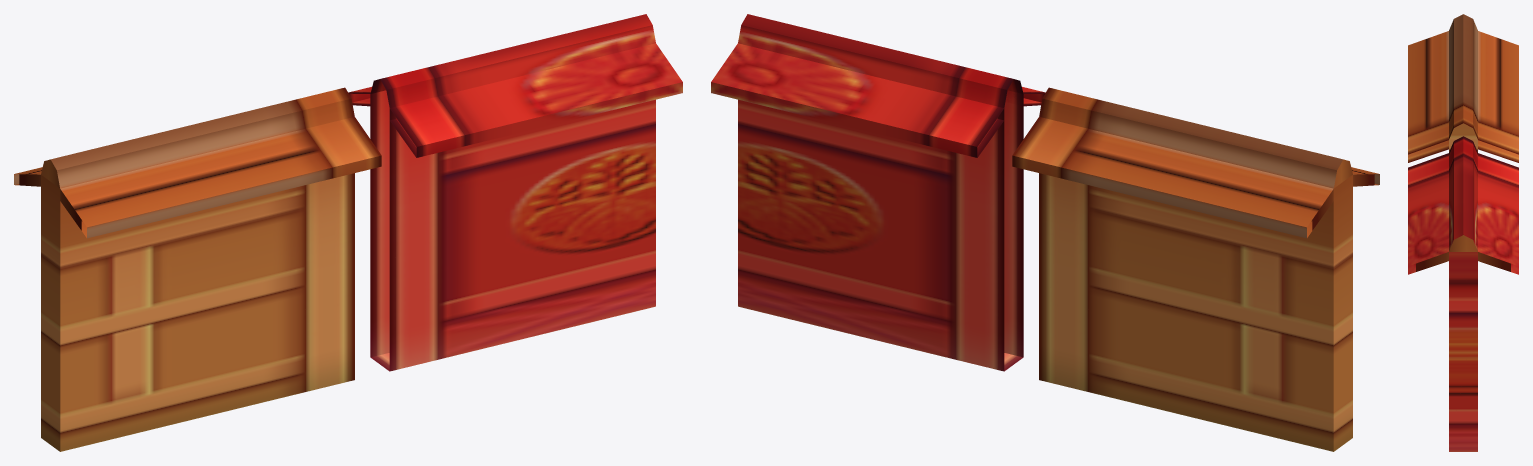
File: wall_02.FBX
3 renders of one model, left to right at view 1: azimuth 30°, elevation 25°; view 2: azimuth 150°, elevation 25°; view 3: azimuth 270°, elevation 25°, orthographic. The views are drawn at different scales.
Visible parts, largest first — view 1: wall_02; view 2: wall_02; view 3: wall_02.
Part boxes in pixels (left/top/right/bottom): wall_02: left=14, top=14, right=682, bottom=451; wall_02: left=711, top=14, right=1379, bottom=451; wall_02: left=1408, top=14, right=1518, bottom=451.
Size of the model in its own units: 114335 by 52353 by 24225.
